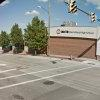Traffic light: (61, 1, 99, 26)
